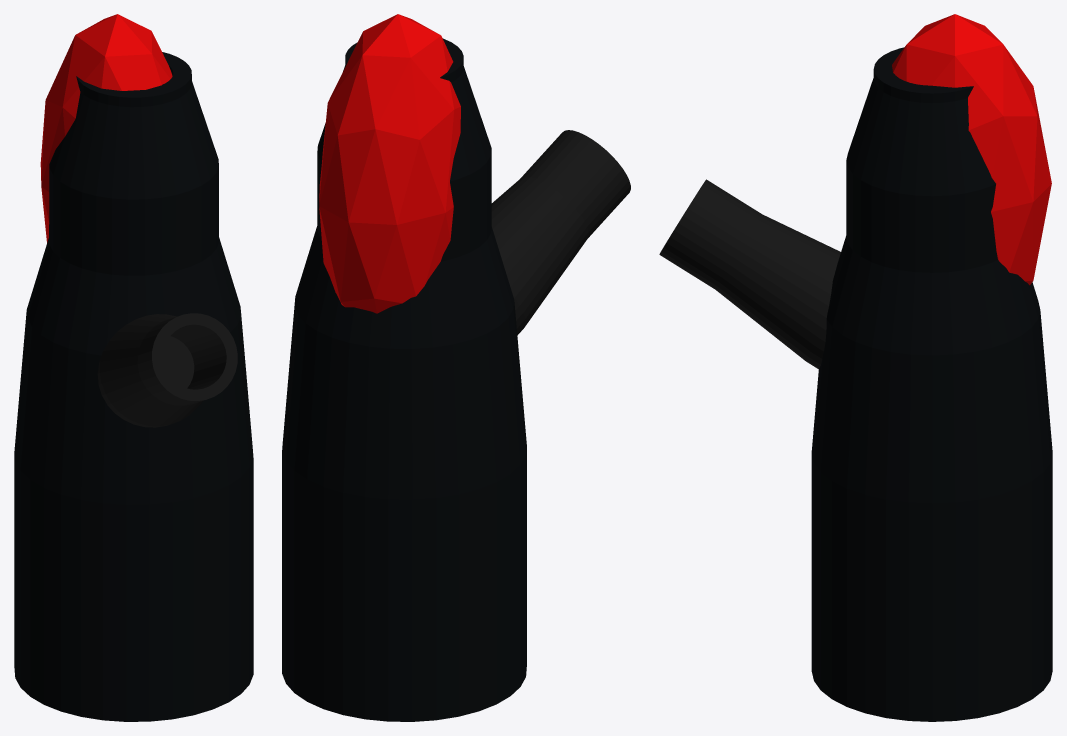
Rendered from Bleedtower.obj.
3 views of the same model, side by side, from view 1: azimuth 30°, elevation 25°; view 2: azimuth 150°, elevation 25°; view 3: azimuth 270°, elevation 25° (orthographic). The views are drawn at different scales.
Parts seen in each view (by area): view 1: Cylinder, Cylinder.001, Icosphere; view 2: Cylinder, Icosphere, Cylinder.001; view 3: Cylinder, Icosphere, Cylinder.001.
Boxes of the visible parts, x1,y1,x2,y2 form: Cylinder: (14,52,253,721); Cylinder.001: (97,313,237,427); Icosphere: (40,14,172,242); Cylinder: (282,38,526,721); Icosphere: (319,14,460,313); Cylinder.001: (491,130,630,335); Cylinder: (811,47,1052,721); Icosphere: (892,14,1051,285); Cylinder.001: (659,179,840,369).
Bounding box in the file's own units: 2 × 5.99 × 3.26.
